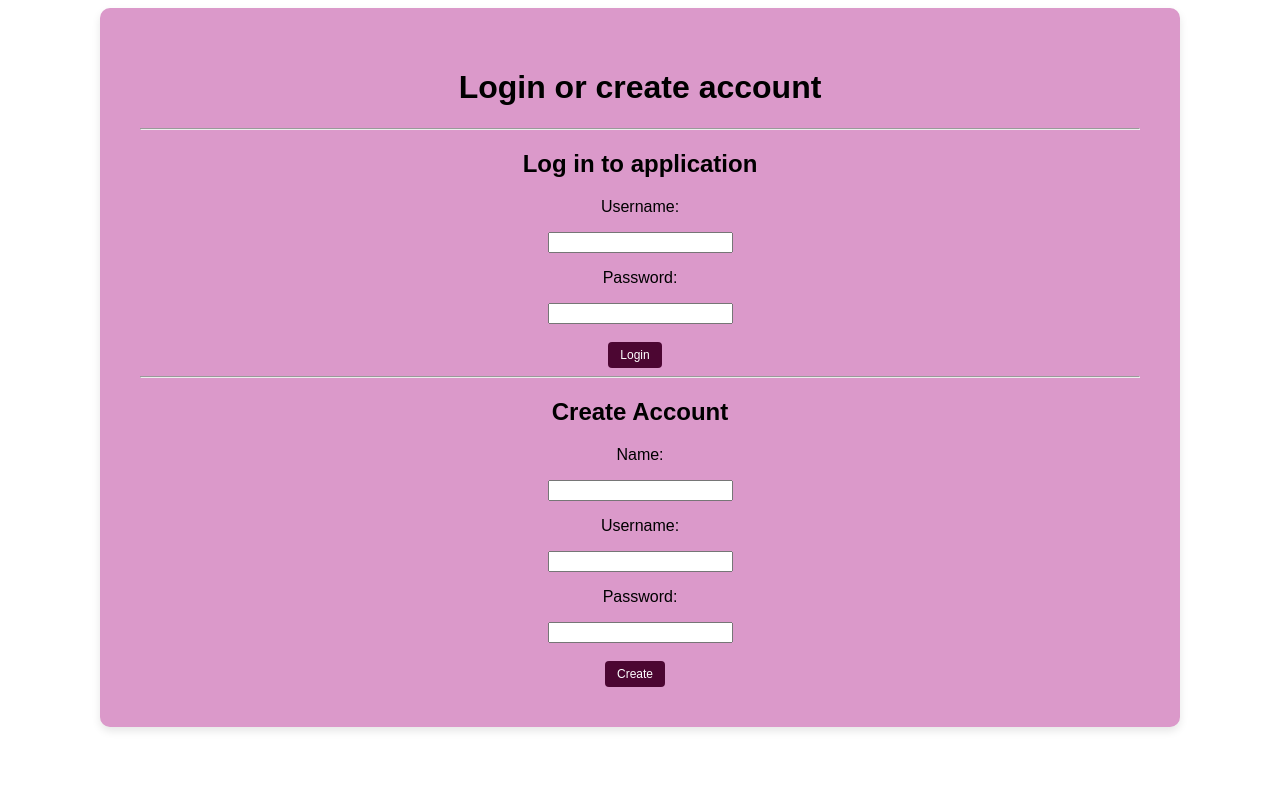
it: Blog app › Login › fails with wrong credentials
Type "wrongusername" into the field with id "username" at (641, 243), box [548,232,733,253]
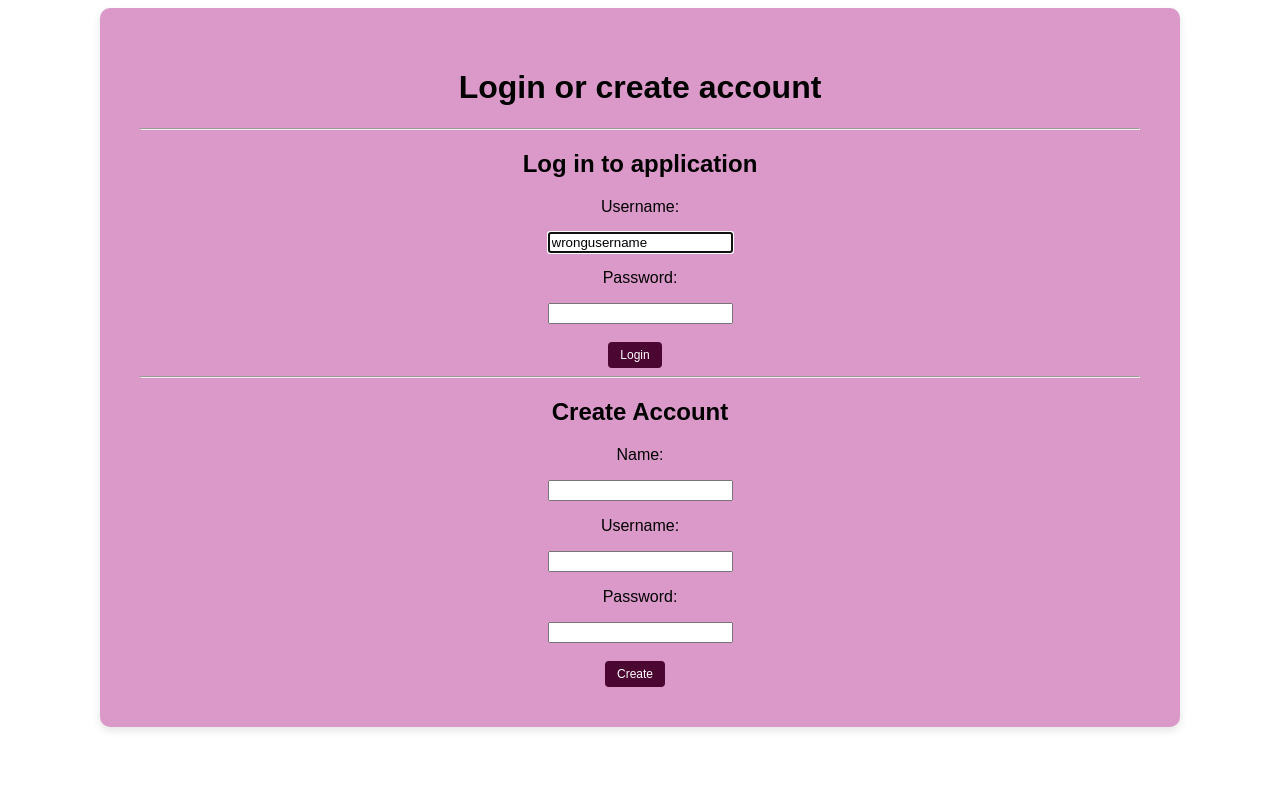
Type "testpassword" into the password field below "Log in to application" at (641, 314), box [548,303,733,324]
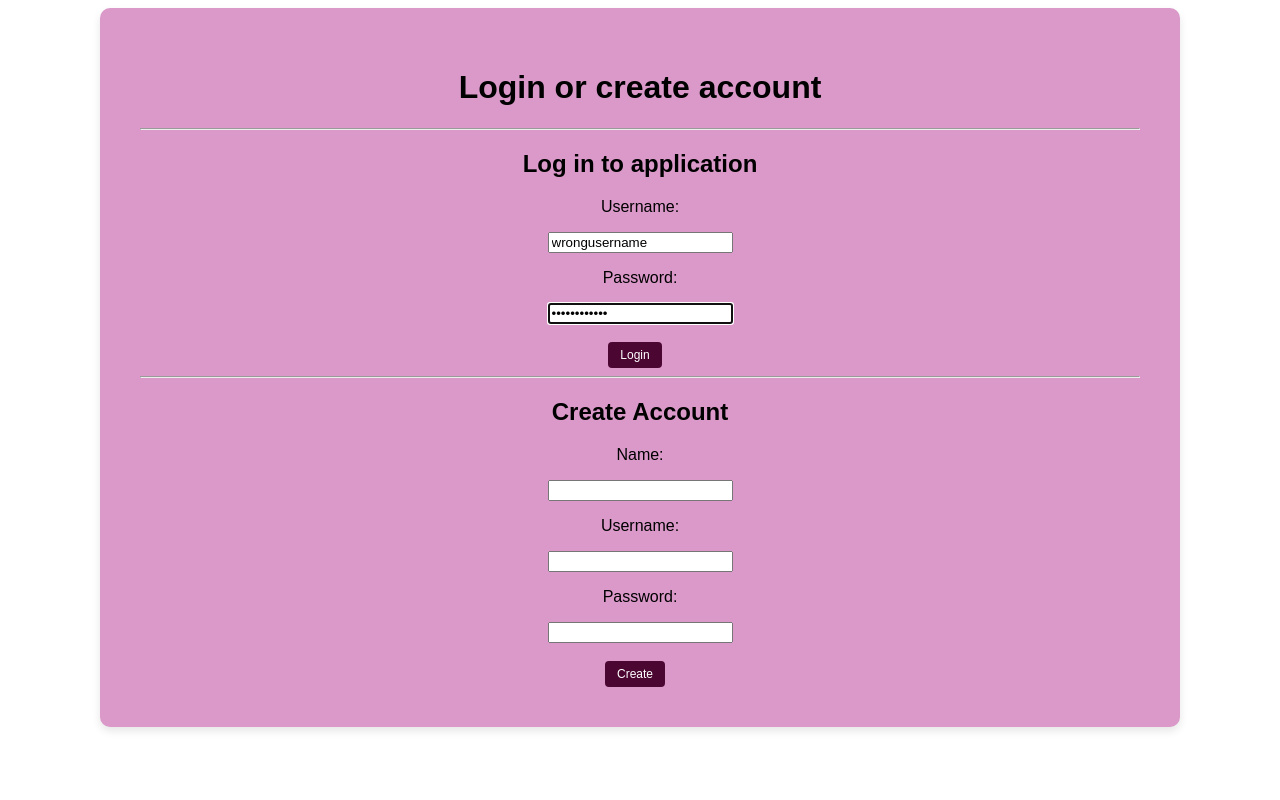
Click the button with id "login-button" at (635, 355), box [608,342,661,368]
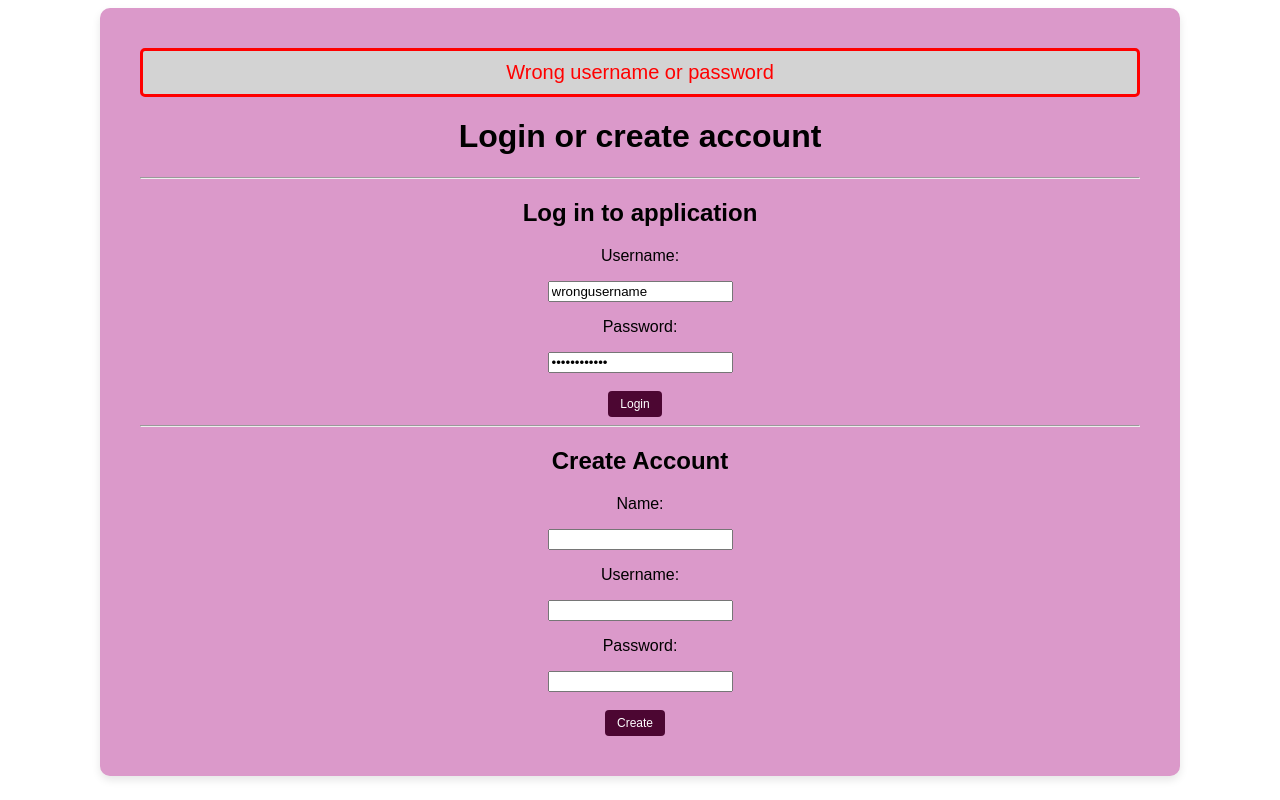
Expected: the text "Wrong username or password" is shown, [140,48,1140,97]
